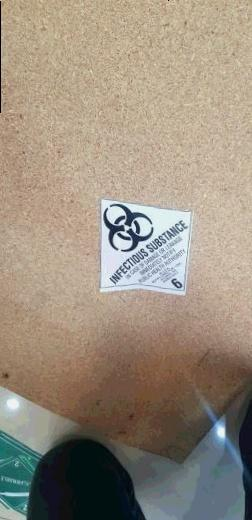infectious-substance: (97, 201, 195, 292)
